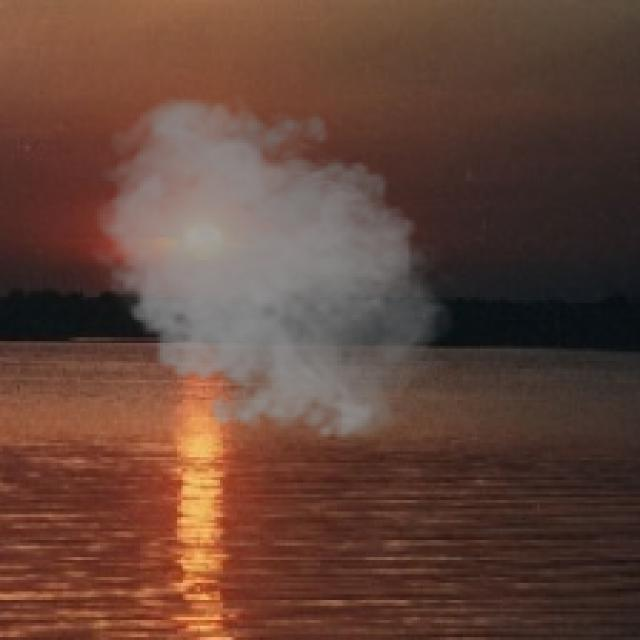smoke: (86, 91, 466, 452)
